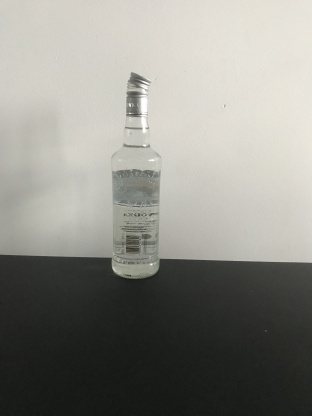nakretka: (124, 69, 152, 117)
